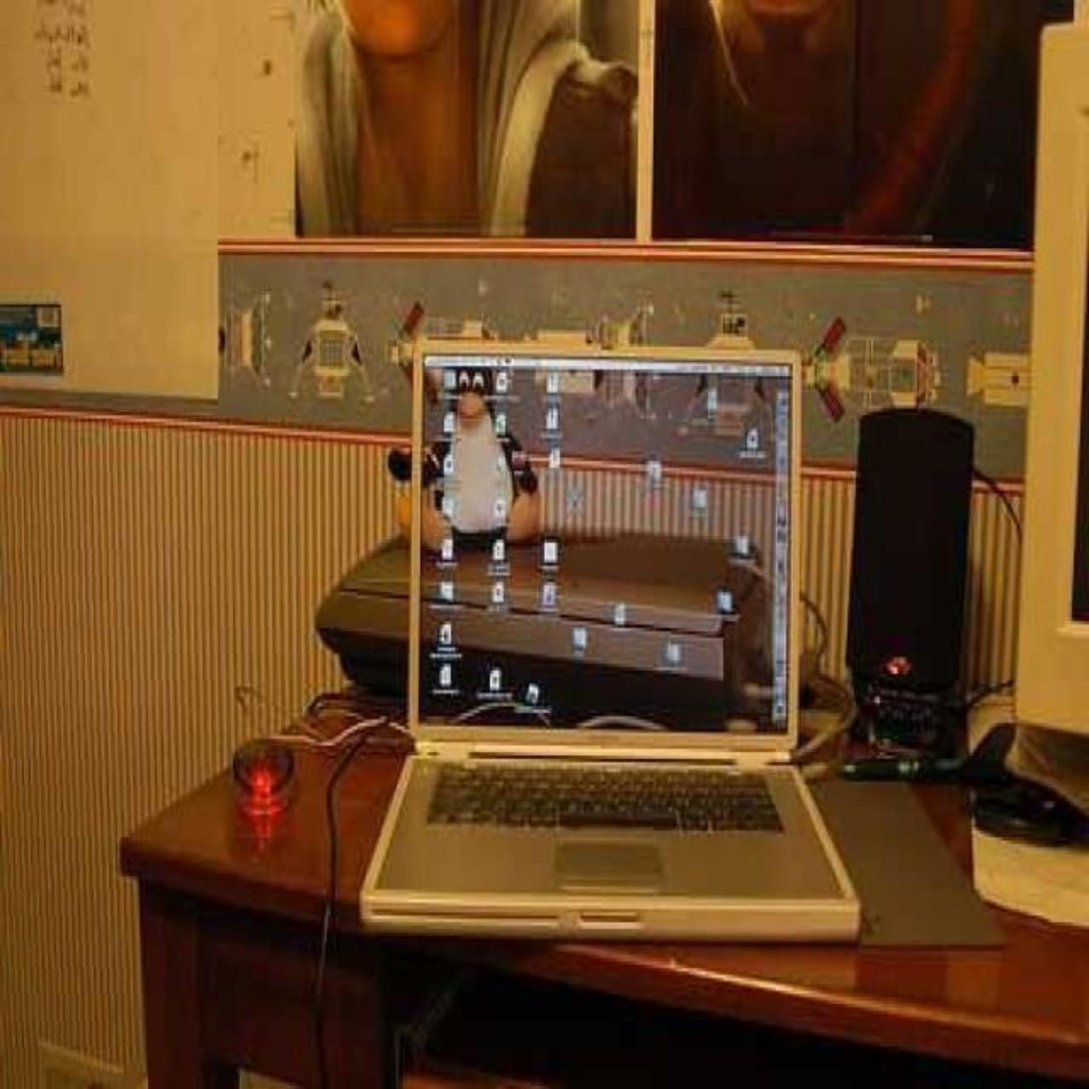laptop: (395, 367, 810, 944)
